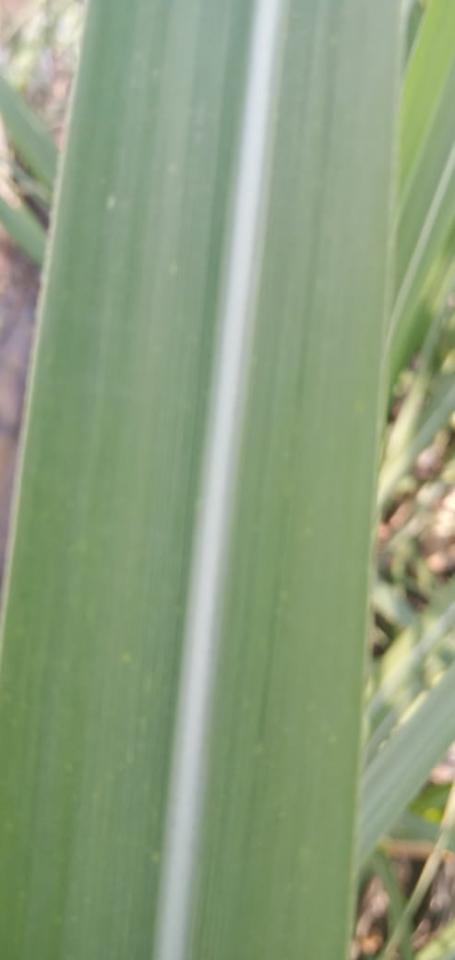Healthy: (0, 1, 255, 959), (191, 0, 408, 959)
